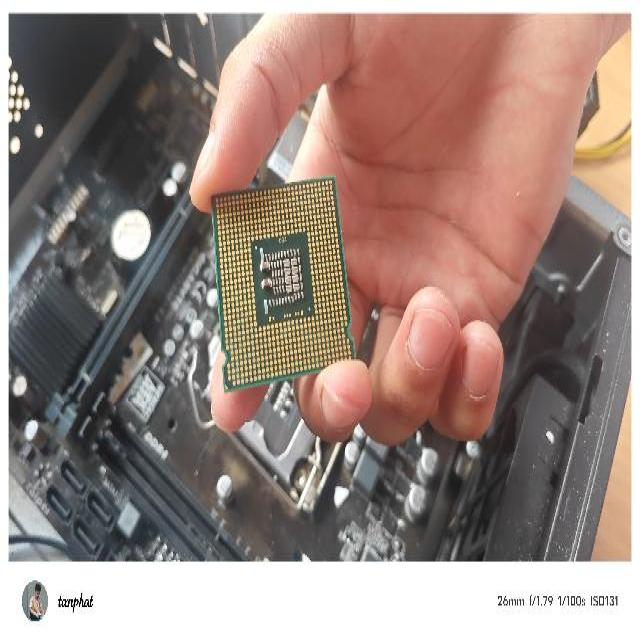CPU: (207, 174, 360, 395)
